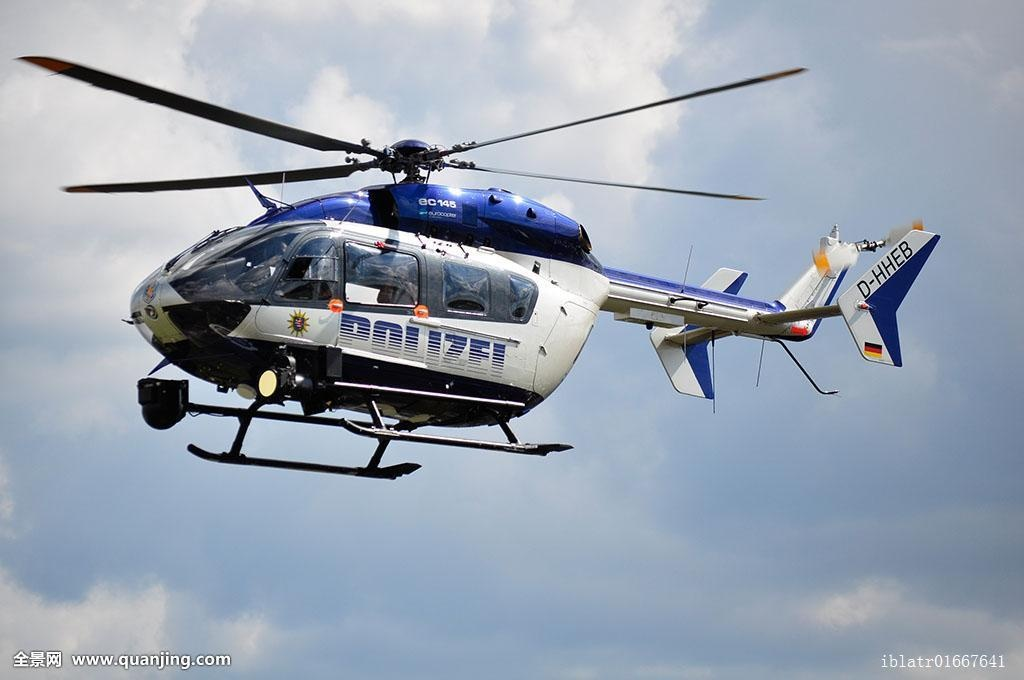airplane: (1, 51, 963, 485)
